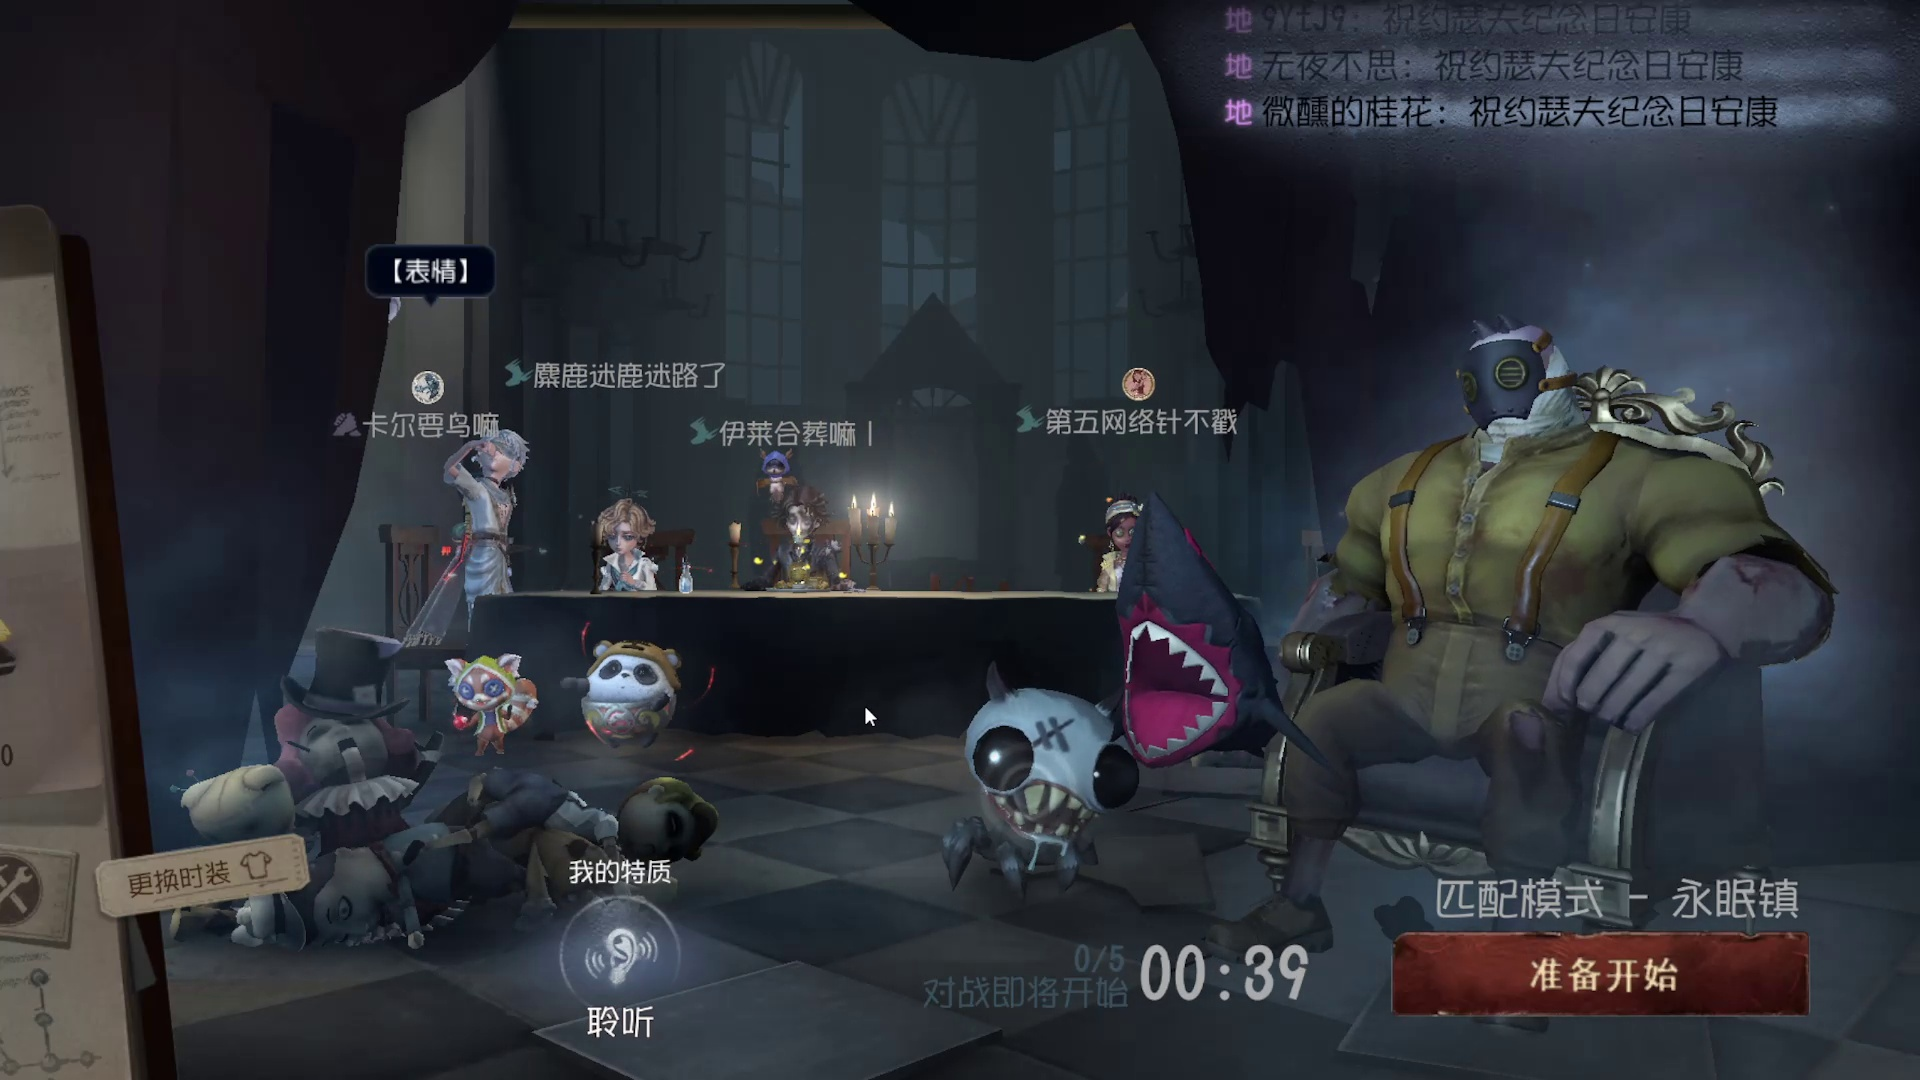准备开始: (1378, 919, 1811, 1029)
